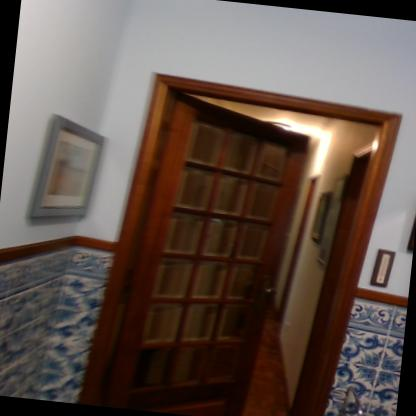semi: (94, 53, 409, 415)
